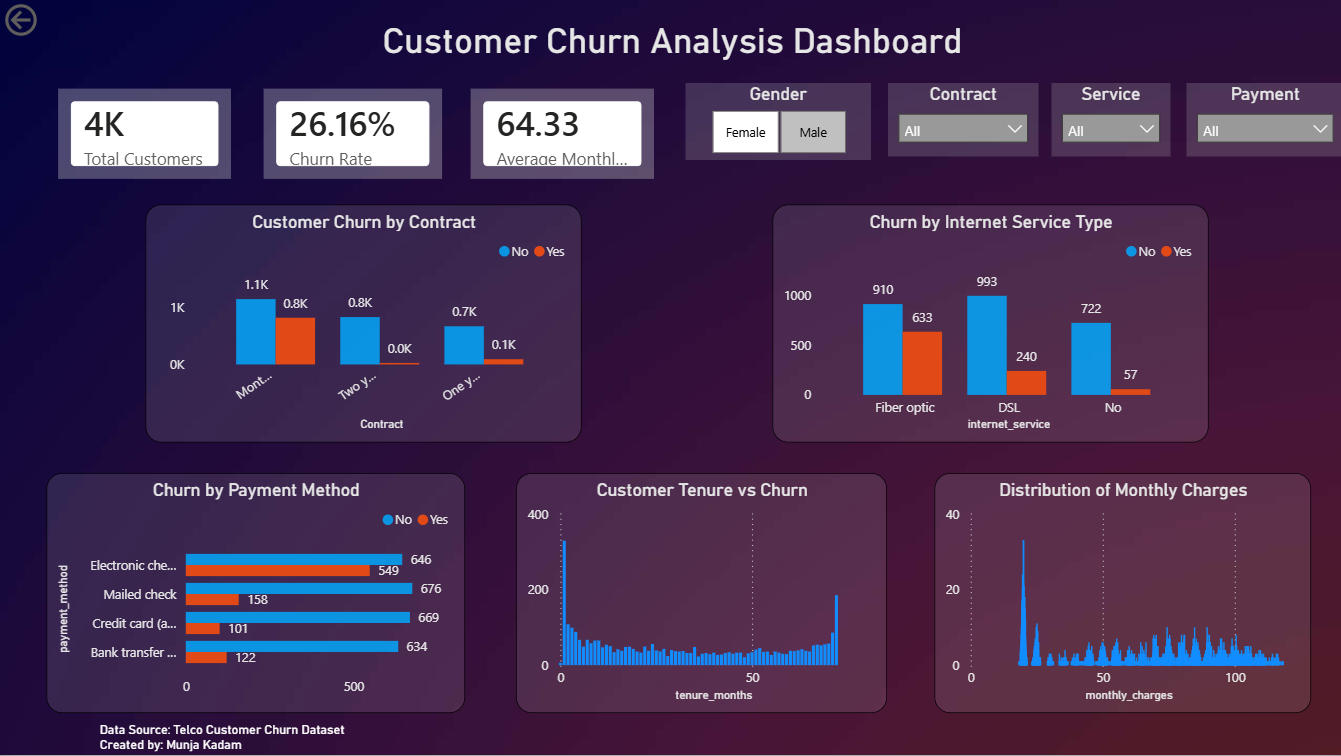

This screenshot's page, from the dashboard's own definition file:
{"tool":"powerbi","page":{"name":"Sheet 1","canvas":[1280,720],"ordinal":0},"visuals":[{"type":"cardVisual","fields":{"Data":["cleaned_churn_data.Total Customers"]},"box":[50,80,175,96.7],"z":0},{"type":"actionButton","box":[0,0,100,40],"z":1000},{"type":"cardVisual","fields":{"Data":["cleaned_churn_data.Average Monthly Charges"]},"box":[443.3,80,185,96.7],"z":2000},{"type":"clusteredColumnChart","title":"Customer Churn by Contract","fields":{"Category":["cleaned_churn_data.contract"],"Series":["cleaned_churn_data.churn_label"],"Y":["Sum(cleaned_churn_data.count)"]},"box":[138.3,195,415,226.7],"z":3000},{"type":"clusteredBarChart","title":"Churn by Payment Method","fields":{"Category":["cleaned_churn_data.payment_method"],"Series":["cleaned_churn_data.churn_label"],"Y":["Sum(cleaned_churn_data.count)"]},"box":[45,451.7,398.3,228.3],"z":4000},{"type":"clusteredColumnChart","title":"Churn by Internet Service Type","fields":{"Category":["cleaned_churn_data.internet_service"],"Series":["cleaned_churn_data.churn_label"],"Y":["Sum(cleaned_churn_data.count)"]},"box":[735,195,415,226.7],"z":5000},{"type":"columnChart","title":"Distribution of Monthly Charges","fields":{"Category":["cleaned_churn_data.monthly_charges"],"Y":["Sum(cleaned_churn_data.count)"]},"box":[890,451.7,358.3,228.3],"z":6000},{"type":"slicer","title":"Gender","fields":{"Values":["cleaned_churn_data.gender"]},"box":[653.3,80,176.7,73.3],"z":7000},{"type":"slicer","title":"Contract","fields":{"Values":["cleaned_churn_data.contract"]},"box":[845,80,143.3,70],"z":8000},{"type":"slicer","title":"Service","fields":{"Values":["cleaned_churn_data.internet_service"]},"box":[1001.7,80,113.3,70],"z":9000},{"type":"slicer","title":"Payment","fields":{"Values":["cleaned_churn_data.payment_method"]},"box":[1130,80,150,70],"z":10000},{"type":"columnChart","title":"Customer Tenure vs Churn","fields":{"Category":["cleaned_churn_data.tenure_months"],"Y":["Sum(cleaned_churn_data.count)"]},"box":[491.7,451.7,353.3,228.3],"z":11000},{"type":"textbox","title":"Customer Churn Analysis Dashboard","box":[336.7,20,606.7,40],"z":12000},{"type":"cardVisual","fields":{"Data":["cleaned_churn_data.Churn Rate"]},"box":[245.6,80,180,96.7],"z":13000},{"type":"textbox","title":"Data Source: Telco Customer Churn Dataset                               Created by: Munja Kadam","box":[90,688.8,270,31.2],"z":14000}]}

Visuals, with their boxes in screenshot pixels (x1, y1, x2, y2), scaled from the page's 1280x720 canvas onto the 1341x756 screenshot:
cardVisual - cleaned_churn_data.Total Customers: [left=52, top=84, right=236, bottom=186]
actionButton: [left=0, top=0, right=105, bottom=42]
cardVisual - cleaned_churn_data.Average Monthly Charges: [left=464, top=84, right=658, bottom=186]
"Customer Churn by Contract" clusteredColumnChart: [left=145, top=205, right=580, bottom=443]
"Churn by Payment Method" clusteredBarChart: [left=47, top=474, right=464, bottom=714]
"Churn by Internet Service Type" clusteredColumnChart: [left=770, top=205, right=1205, bottom=443]
"Distribution of Monthly Charges" columnChart: [left=932, top=474, right=1308, bottom=714]
"Gender" slicer: [left=684, top=84, right=870, bottom=161]
"Contract" slicer: [left=885, top=84, right=1035, bottom=158]
"Service" slicer: [left=1049, top=84, right=1168, bottom=158]
"Payment" slicer: [left=1184, top=84, right=1340, bottom=158]
"Customer Tenure vs Churn" columnChart: [left=515, top=474, right=885, bottom=714]
"Customer Churn Analysis Dashboard" textbox: [left=353, top=21, right=988, bottom=63]
cardVisual - cleaned_churn_data.Churn Rate: [left=257, top=84, right=446, bottom=186]
"Data Source: Telco Customer Churn Dataset                               Created by: Munja Kadam" textbox: [left=94, top=723, right=377, bottom=755]
